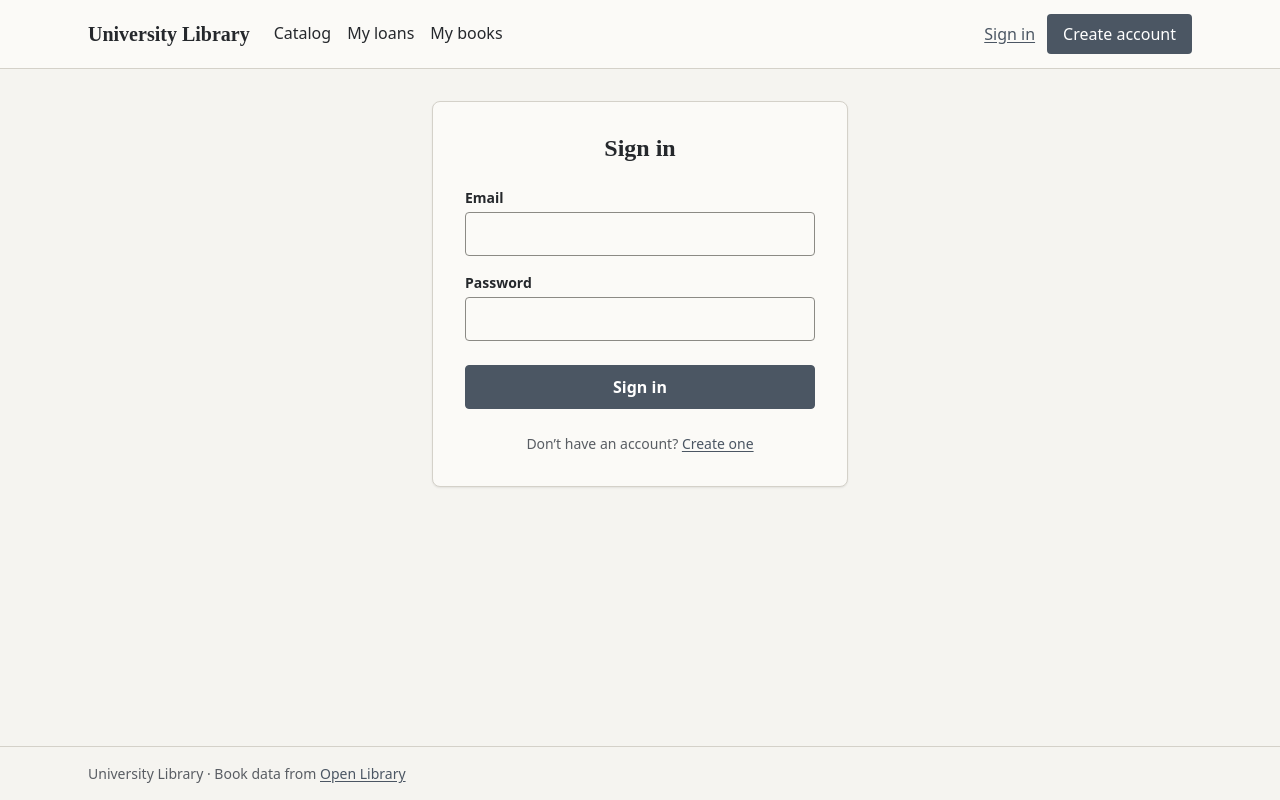
Inicio de sesión y rutas protegidas (integración) › sin sesión, "Mis préstamos" lleva al login; al entrar vuelve ahí y "Cerrar sesión" la protege de nuevo
Expected: the heading "Sign in" is shown, [604,135,676,161]
Type "ana@correo.com" into the field labelled "Email" at (640, 234), box [465,212,815,256]
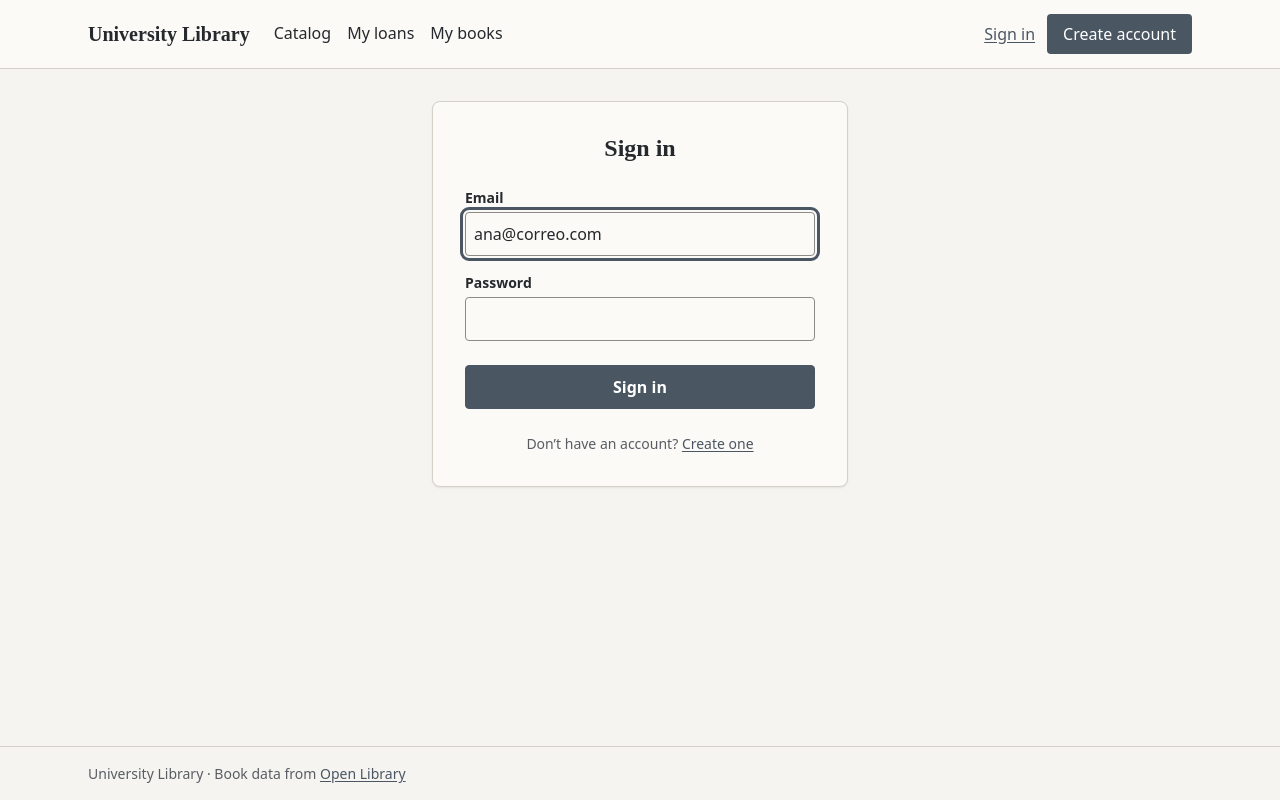
Type "Correcta123" into the password field labelled "Password" at (640, 319), box [465,297,815,341]
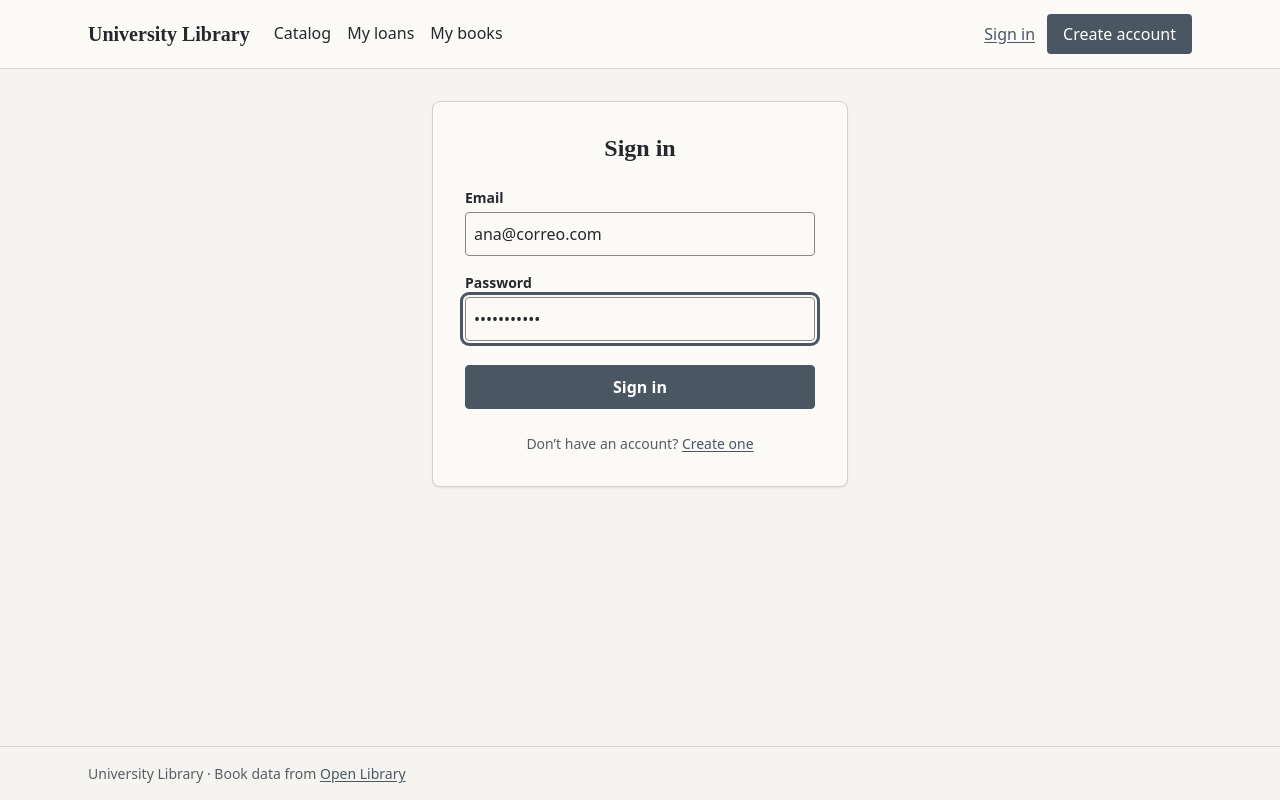
Click the button "Sign in" at (640, 387), box [465,365,815,409]
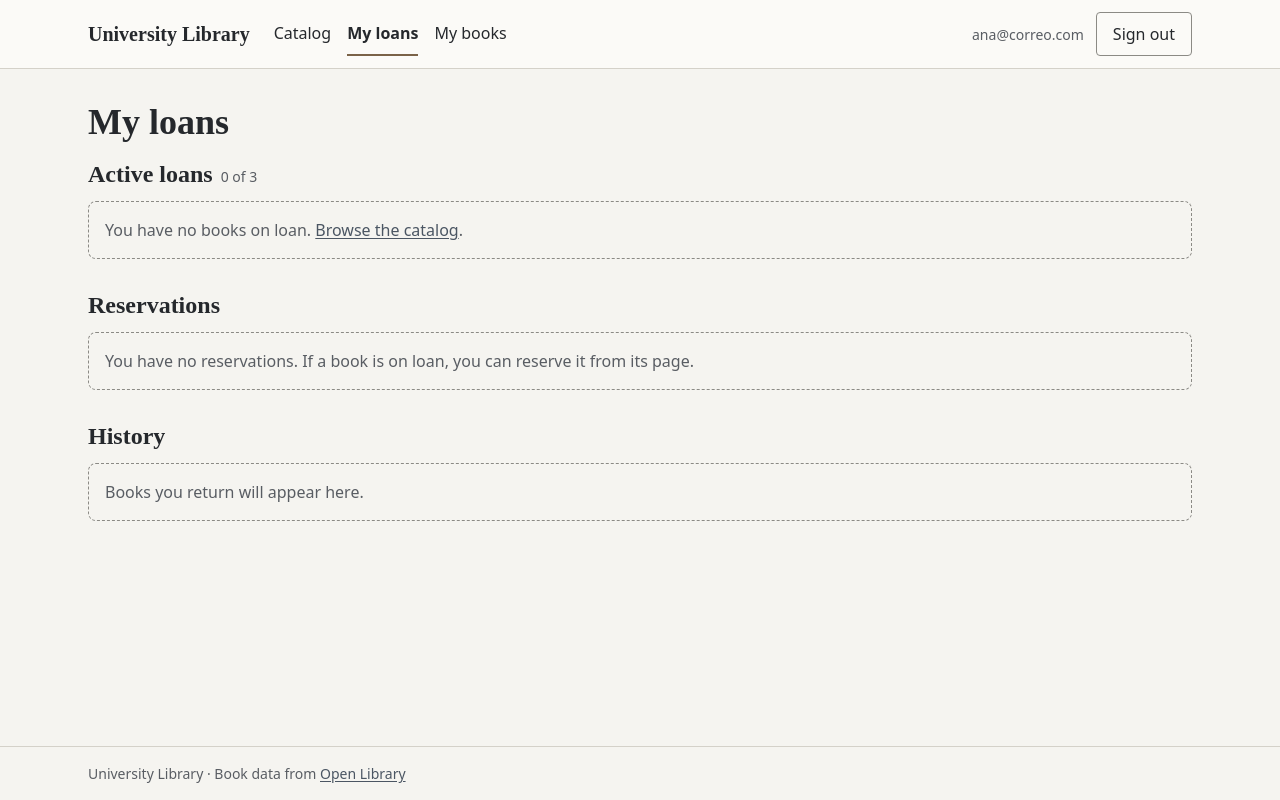
Now the heading "My loans" is shown, box [88,102,229,142]
Now the text "ana@correo.com" is shown, box [972,24,1084,44]
Click the button "Sign out" at (1144, 34), box [1096,12,1192,56]
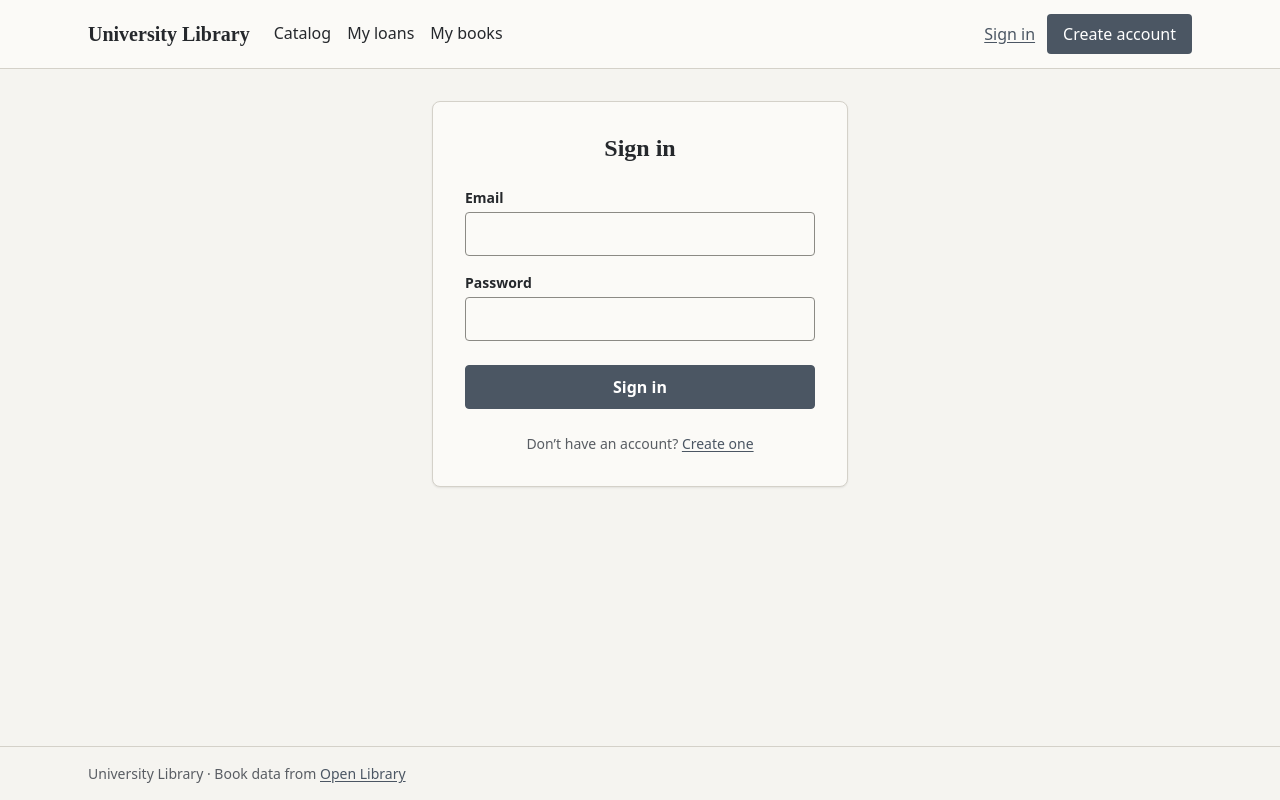
Now the heading "Sign in" is shown, box [604,135,676,161]
Now the link "Create account" is shown, box [1047,14,1192,54]
